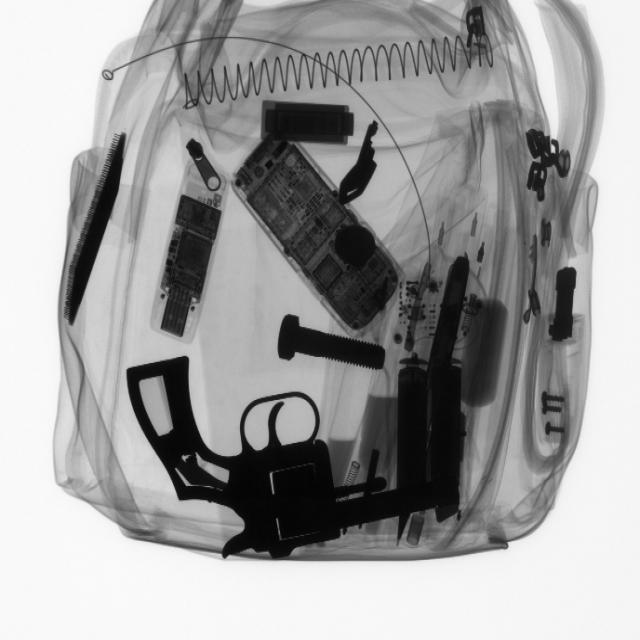GUN: (114, 347, 450, 561)
